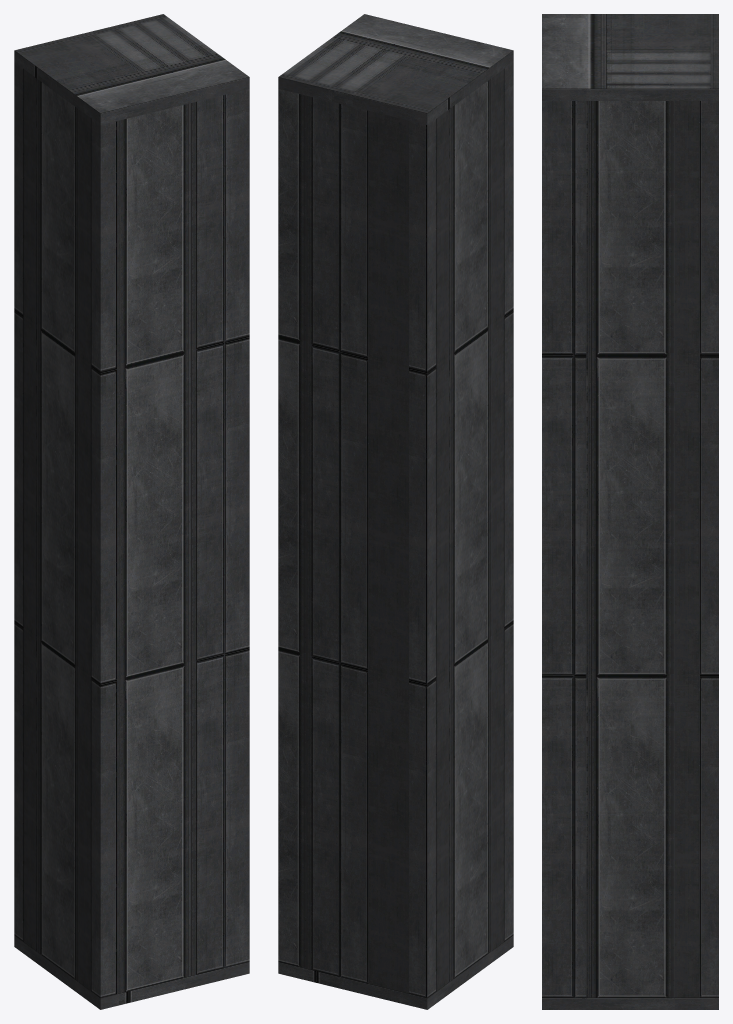
Rendered from Neon_TubeWallB2.FBX.
3 views of the same model, side by side, from view 1: azimuth 30°, elevation 25°; view 2: azimuth 150°, elevation 25°; view 3: azimuth 270°, elevation 25° (orthographic). The views are drawn at different scales.
Visible parts, largest first — view 1: Neon_TubeWallB2; view 2: Neon_TubeWallB2; view 3: Neon_TubeWallB2.
Part boxes in pixels (box(x1,y1,x2,y2)): Neon_TubeWallB2: box(14, 14, 249, 1009); Neon_TubeWallB2: box(278, 14, 513, 1009); Neon_TubeWallB2: box(542, 14, 718, 1009).
Bounding box in the file's own units: 4 × 23 × 4.
